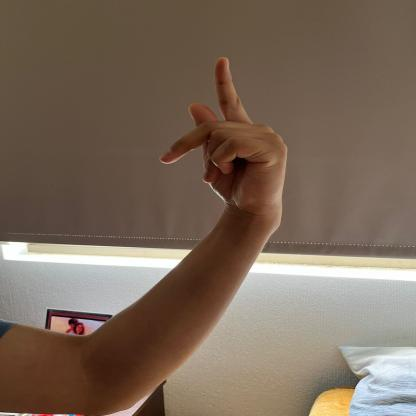K: (156, 56, 301, 220)
